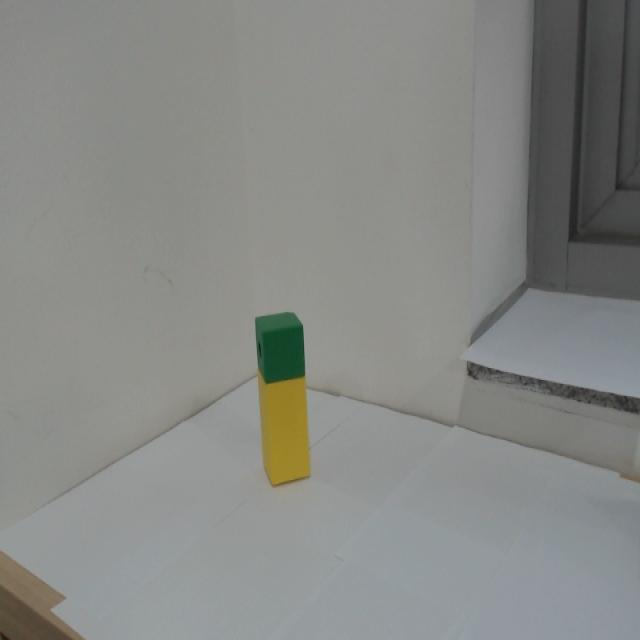cube: (252, 308, 307, 384)
